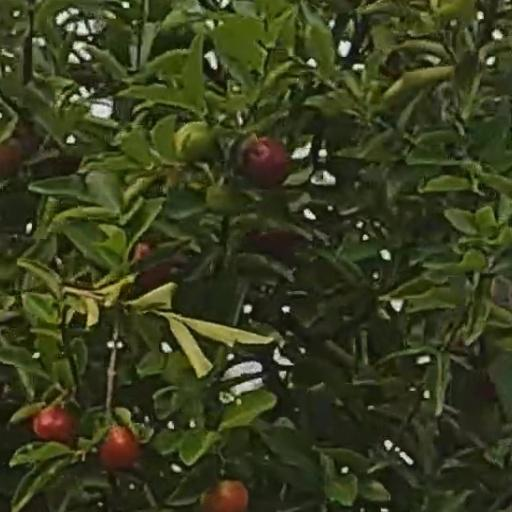acerola: (250, 141, 287, 188), (176, 123, 213, 163), (33, 408, 76, 442), (99, 429, 137, 467), (203, 481, 247, 510)
